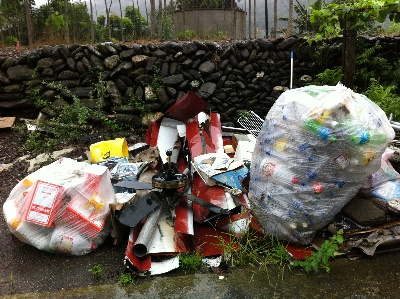bucket: (24, 178, 68, 226), (87, 136, 130, 167)
plastic_bag: (247, 80, 395, 248), (3, 156, 119, 255)
